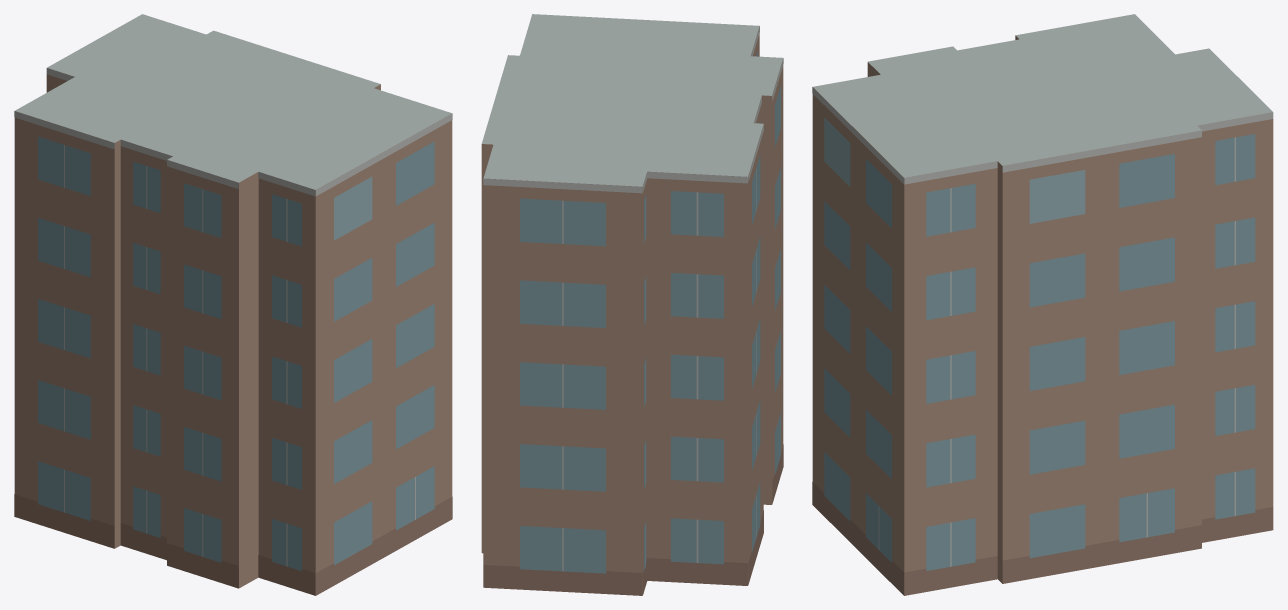
Rendered from survey-upis-32613627.glb.
3 renders of one model, left to right at view 1: azimuth 30°, elevation 25°; view 2: azimuth 150°, elevation 25°; view 3: azimuth 270°, elevation 25°, orthographic. The views are drawn at different scales.
Visible parts, largest first — view 1: survey-upis-32613627.tmp; view 2: survey-upis-32613627.tmp; view 3: survey-upis-32613627.tmp.
Part boxes in pixels (<box>): survey-upis-32613627.tmp: <box>14,14,452,595</box>; survey-upis-32613627.tmp: <box>481,14,783,595</box>; survey-upis-32613627.tmp: <box>812,14,1273,595</box>.
Size of the model in its own units: 12.7 by 15.1 by 15.1.
